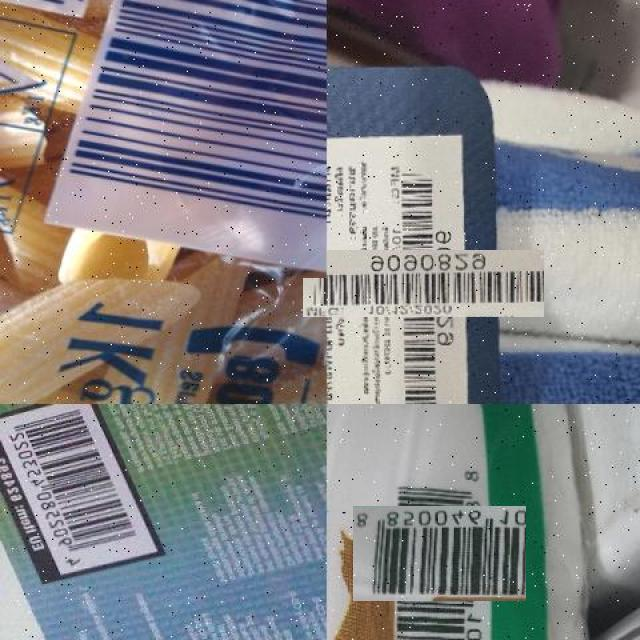Barcode: (42, 0, 327, 278), (0, 404, 159, 579), (346, 206, 501, 361), (372, 486, 506, 621)
